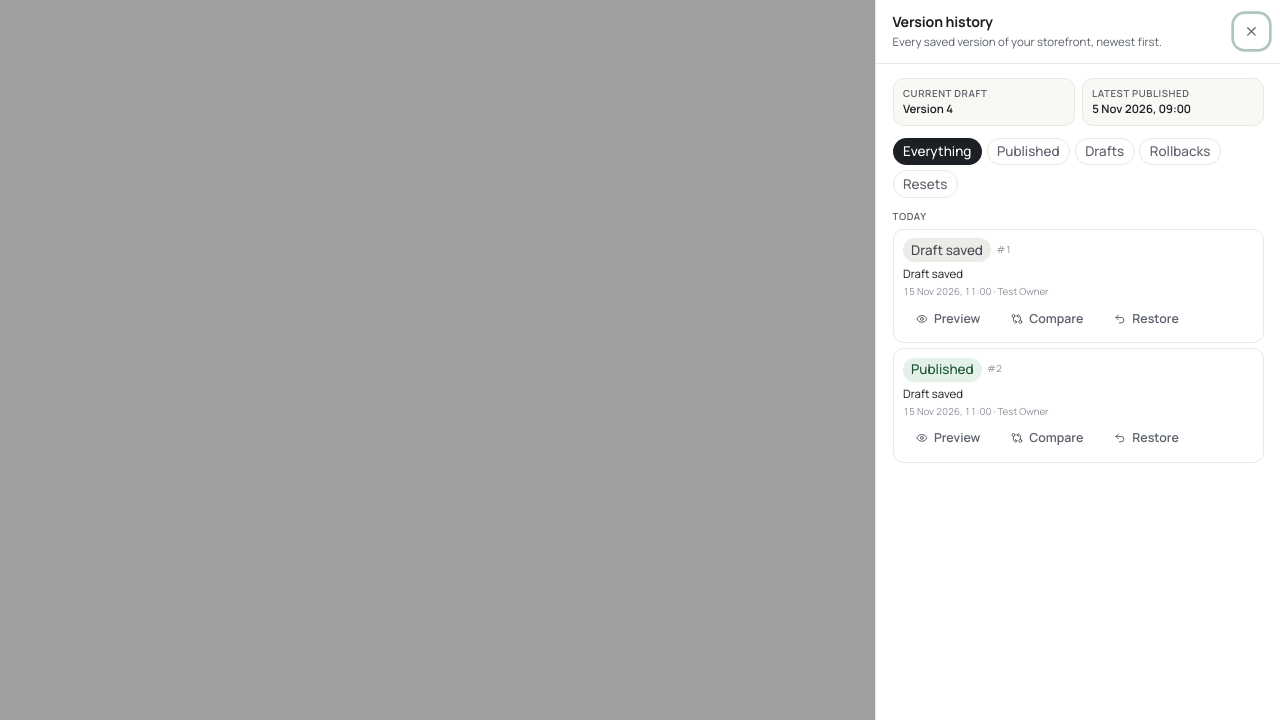
it: RevisionHistoryPanel › compares two versions with sentence-level differences
Expected: the list item that starts with "Published" is shown, top-left (892, 348), bottom-right (1264, 463)
Click the 2nd button "Compare": (1047, 438) top-left (998, 422), bottom-right (1097, 454)
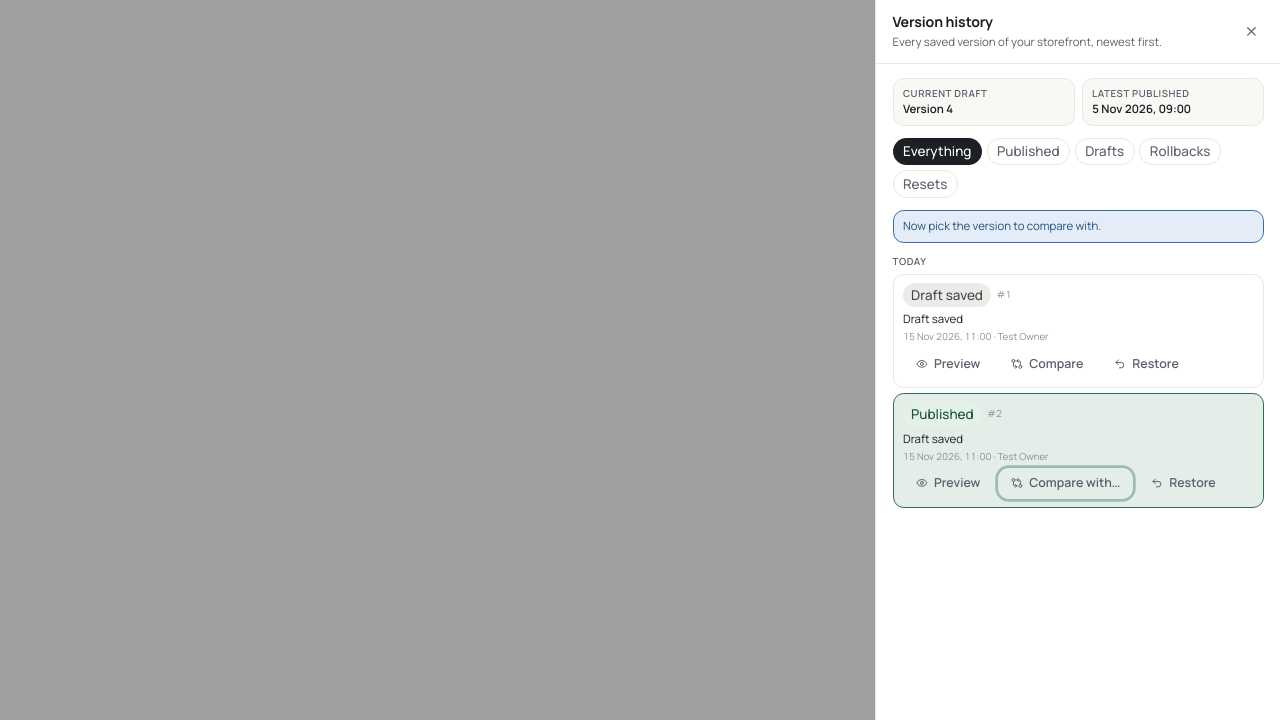
Expected: the list item that starts with "Draft saved" is shown, top-left (892, 274), bottom-right (1264, 388)
Expected: the text "Now pick the version to compare with." is shown, top-left (892, 210), bottom-right (1264, 243)
Click the button "Compare": (1047, 363) top-left (998, 348), bottom-right (1097, 379)
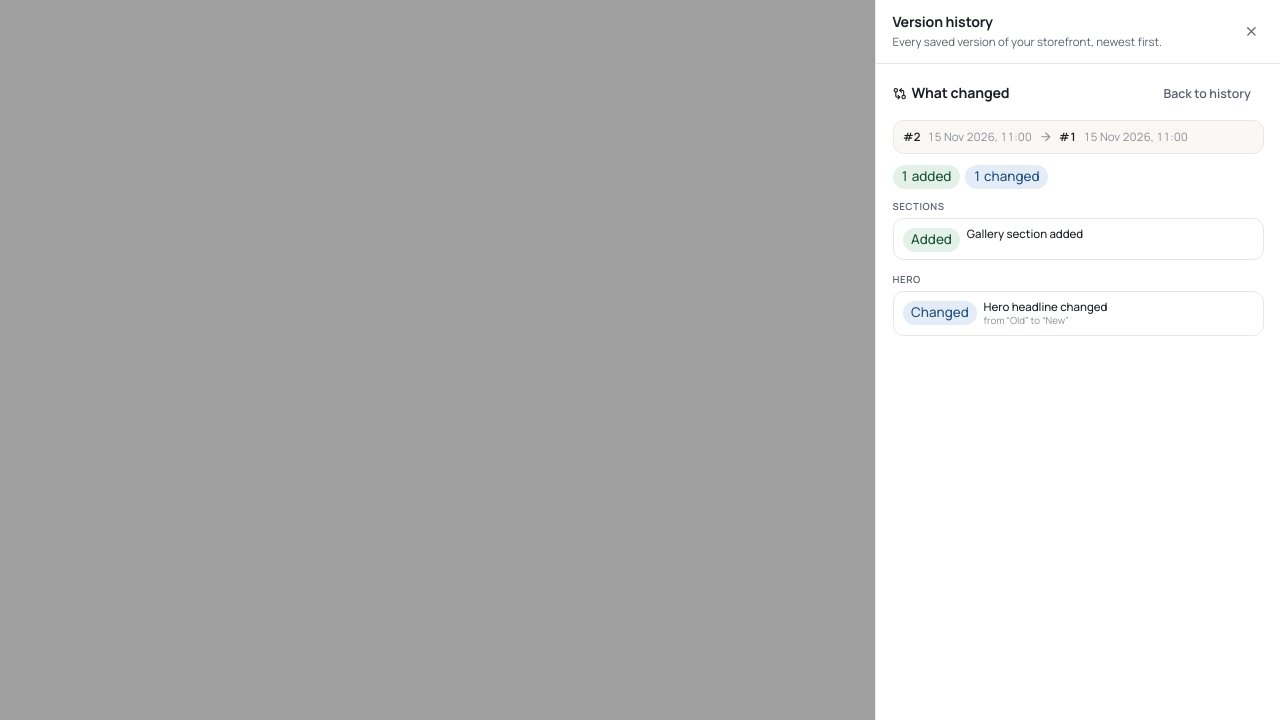
Expected: the heading "What changed" is shown, top-left (892, 84), bottom-right (1010, 103)
Expected: the text "Gallery section added" is shown, top-left (967, 226), bottom-right (1083, 242)
Expected: the text "Hero headline changed" is shown, top-left (984, 299), bottom-right (1107, 315)
